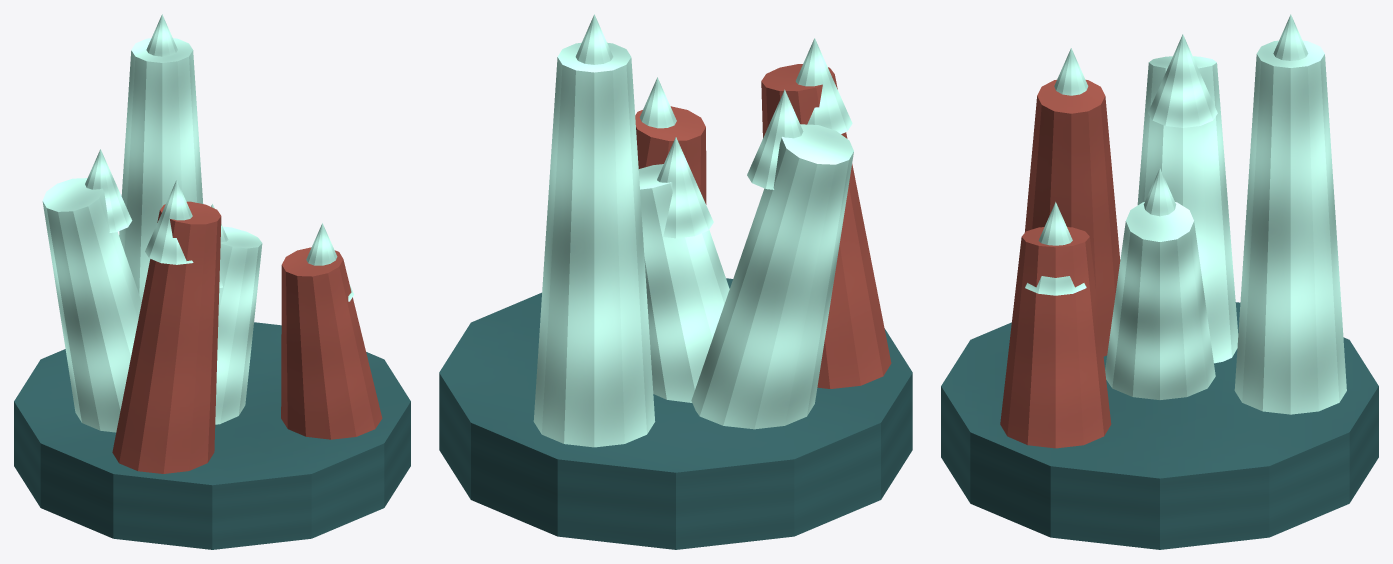
Rendered from atlas100-s035-a04.glb.
3 renders of one model, left to right at view 1: azimuth 30°, elevation 25°; view 2: azimuth 150°, elevation 25°; view 3: azimuth 270°, elevation 25°, orthographic. The views are drawn at different scales.
Visible parts, largest first — view 1: atlas100-s035-a04:part-000, atlas100-s035-a04:part-003, atlas100-s035-a04:part-009, atlas100-s035-a04:part-007, atlas100-s035-a04:part-005, atlas100-s035-a04:part-001, atlas100-s035-a04:part-004, atlas100-s035-a04:part-010, atlas100-s035-a04:part-008, atlas100-s035-a04:part-006; view 2: atlas100-s035-a04:part-000, atlas100-s035-a04:part-005, atlas100-s035-a04:part-009, atlas100-s035-a04:part-001, atlas100-s035-a04:part-003, atlas100-s035-a04:part-007, atlas100-s035-a04:part-002, atlas100-s035-a04:part-004, atlas100-s035-a04:part-010, atlas100-s035-a04:part-008, atlas100-s035-a04:part-006; view 3: atlas100-s035-a04:part-000, atlas100-s035-a04:part-005, atlas100-s035-a04:part-007, atlas100-s035-a04:part-001, atlas100-s035-a04:part-003, atlas100-s035-a04:part-009, atlas100-s035-a04:part-010, atlas100-s035-a04:part-008, atlas100-s035-a04:part-004, atlas100-s035-a04:part-002, atlas100-s035-a04:part-006.
Part boxes in pixels (x1,y1,x2,y2): atlas100-s035-a04:part-000: (14,322,410,549); atlas100-s035-a04:part-003: (112,201,221,473); atlas100-s035-a04:part-009: (42,178,141,432); atlas100-s035-a04:part-007: (281,247,382,439); atlas100-s035-a04:part-005: (119,38,203,301); atlas100-s035-a04:part-001: (215,226,262,424); atlas100-s035-a04:part-004: (145,180,193,264); atlas100-s035-a04:part-010: (85,149,132,232); atlas100-s035-a04:part-008: (306,223,353,301); atlas100-s035-a04:part-006: (146,14,177,56); atlas100-s035-a04:part-000: (439,278,912,549); atlas100-s035-a04:part-005: (533,42,655,447); atlas100-s035-a04:part-009: (691,124,853,429); atlas100-s035-a04:part-001: (638,164,729,402); atlas100-s035-a04:part-003: (761,64,891,388); atlas100-s035-a04:part-007: (635,106,706,204); atlas100-s035-a04:part-002: (657,137,713,238); atlas100-s035-a04:part-004: (795,38,852,133); atlas100-s035-a04:part-010: (747,89,803,189); atlas100-s035-a04:part-008: (639,77,676,128); atlas100-s035-a04:part-006: (575,14,613,64); atlas100-s035-a04:part-000: (941,302,1378,549); atlas100-s035-a04:part-005: (1234,40,1346,414); atlas100-s035-a04:part-007: (1000,227,1111,448); atlas100-s035-a04:part-001: (1105,202,1215,399); atlas100-s035-a04:part-003: (1024,79,1120,356); atlas100-s035-a04:part-009: (1137,56,1238,363); atlas100-s035-a04:part-010: (1148,34,1217,127); atlas100-s035-a04:part-008: (1025,202,1086,295); atlas100-s035-a04:part-004: (1054,48,1088,95); atlas100-s035-a04:part-002: (1143,168,1176,216); atlas100-s035-a04:part-006: (1273,14,1308,60).
Size of the model in its own units: 1.07 by 1.21 by 1.07.
3 materials, 3 textured.
